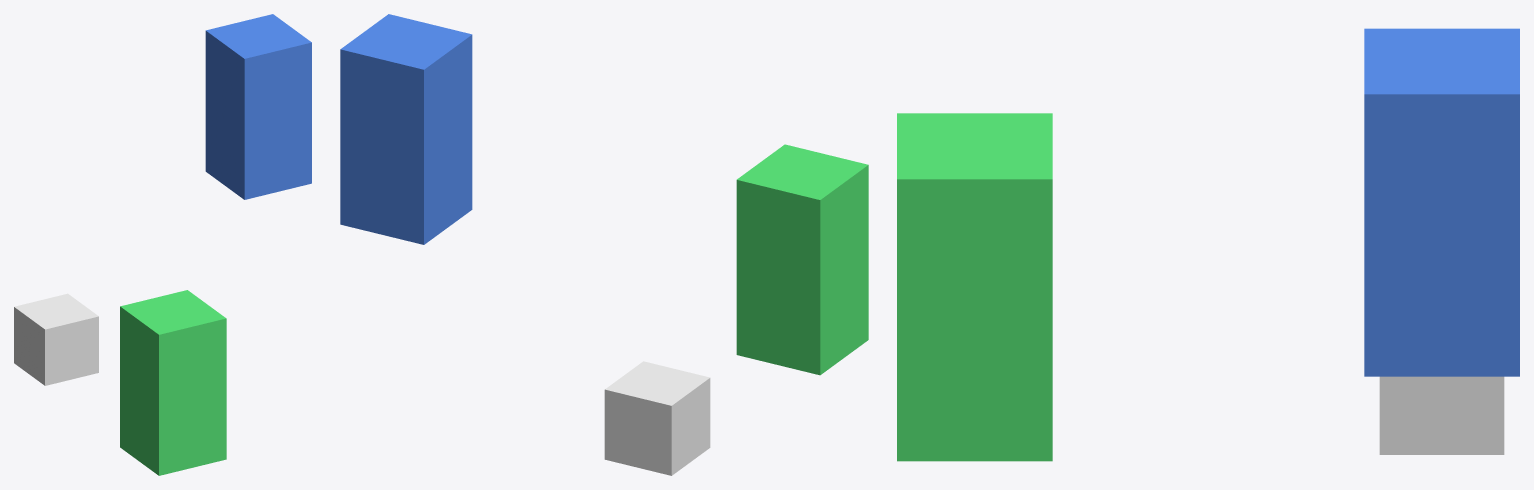
File: probe-x.glb
The picture shows the model from 3 angles, left to right: view 1: azimuth 30°, elevation 25°; view 2: azimuth 150°, elevation 25°; view 3: azimuth 270°, elevation 25°; orthographic projection. The views are drawn at different scales.
Parts seen in each view (by area): view 1: probe; view 2: probe; view 3: probe.
Part boxes in pixels (x1,y1,x2,y2): probe: (14, 14, 311, 475); probe: (340, 14, 868, 475); probe: (897, 28, 1519, 461).
Size of the model in its own units: 4 by 4 by 4.
Materials: 3 (3 with a texture image).
